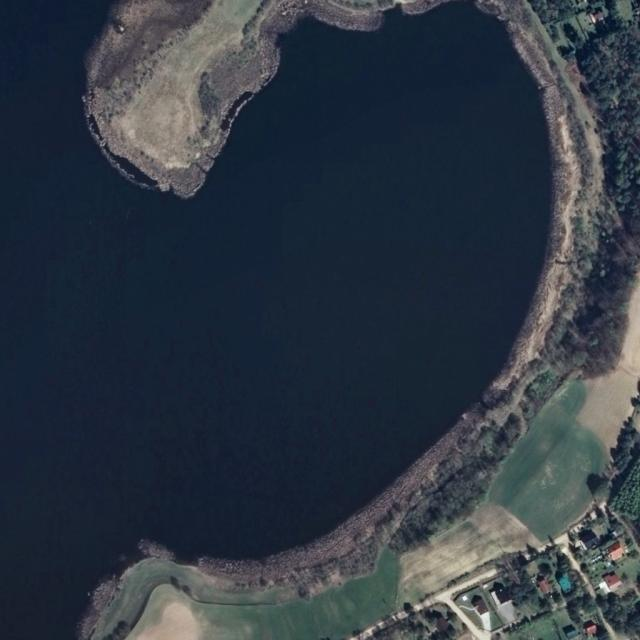agricultural_land: (116, 547, 409, 640), (376, 489, 542, 609)
dryland: (85, 0, 449, 198)
wetland: (0, 1, 551, 639)
